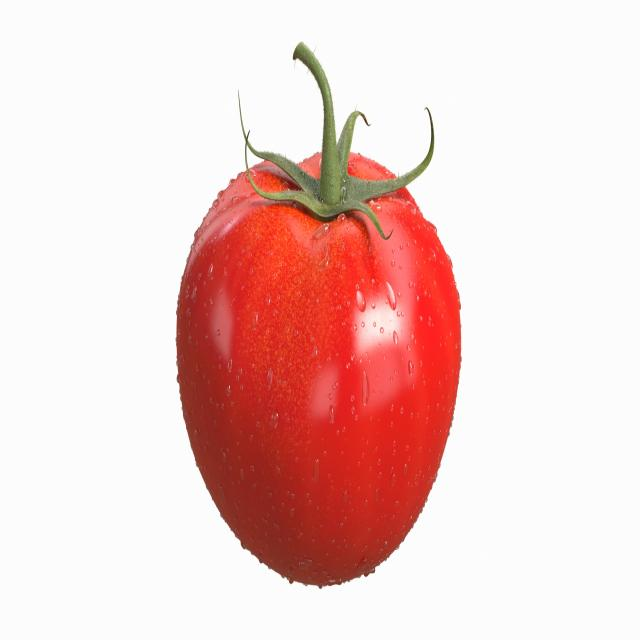Tomato: (175, 41, 462, 588)
